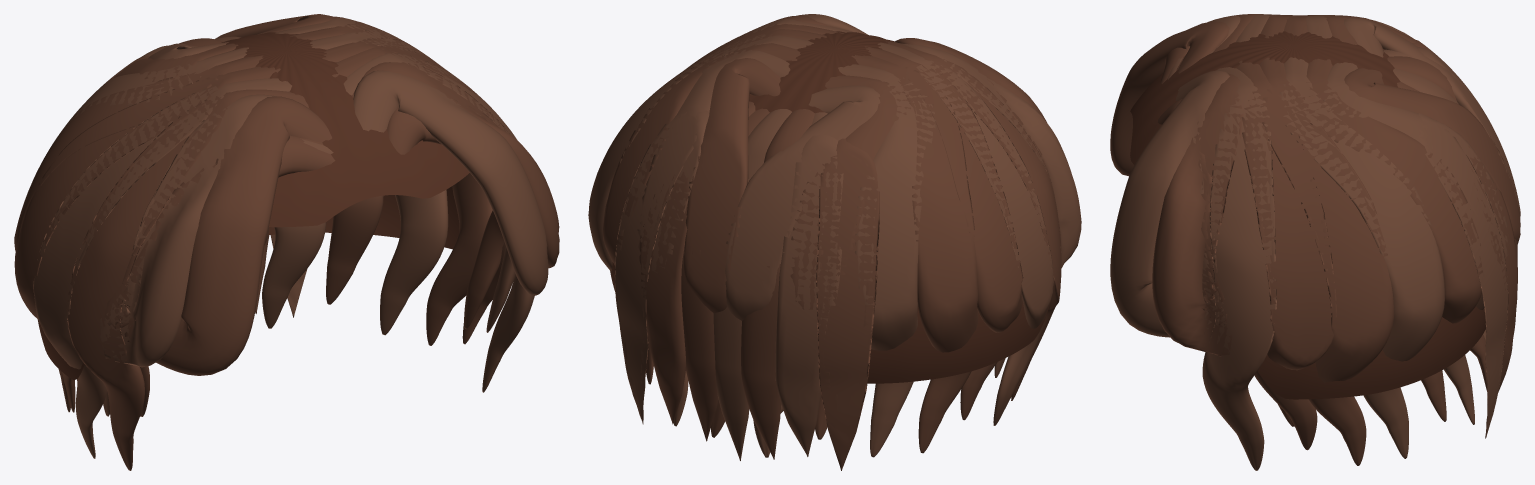
Rendered from Masculine-flow-pashmina251-hair.glb.
3 views of the same model, side by side, from view 1: azimuth 30°, elevation 25°; view 2: azimuth 150°, elevation 25°; view 3: azimuth 270°, elevation 25° (orthographic). The views are drawn at different scales.
Visible parts, largest first — view 1: 226 hair / Hair / main251.001, 226 hair / Hair / accent251.001, 226 hair / Hair / recessed roots251.001; view 2: 226 hair / Hair / main251.001, 226 hair / Hair / accent251.001, 226 hair / Hair / recessed roots251.001; view 3: 226 hair / Hair / main251.001, 226 hair / Hair / accent251.001, 226 hair / Hair / recessed roots251.001.
Boxes of the visible parts, left/top/right/bottom form: 226 hair / Hair / main251.001: left=14, top=14, right=559, bottom=470; 226 hair / Hair / accent251.001: left=33, top=16, right=548, bottom=458; 226 hair / Hair / recessed roots251.001: left=37, top=32, right=469, bottom=380; 226 hair / Hair / main251.001: left=589, top=15, right=1061, bottom=470; 226 hair / Hair / accent251.001: left=588, top=14, right=1081, bottom=460; 226 hair / Hair / recessed roots251.001: left=610, top=31, right=1050, bottom=383; 226 hair / Hair / main251.001: left=1110, top=14, right=1520, bottom=465; 226 hair / Hair / accent251.001: left=1110, top=14, right=1520, bottom=470; 226 hair / Hair / recessed roots251.001: left=1130, top=31, right=1485, bottom=399.
Size of the model in its own units: 1.07 by 0.832 by 0.8705.
